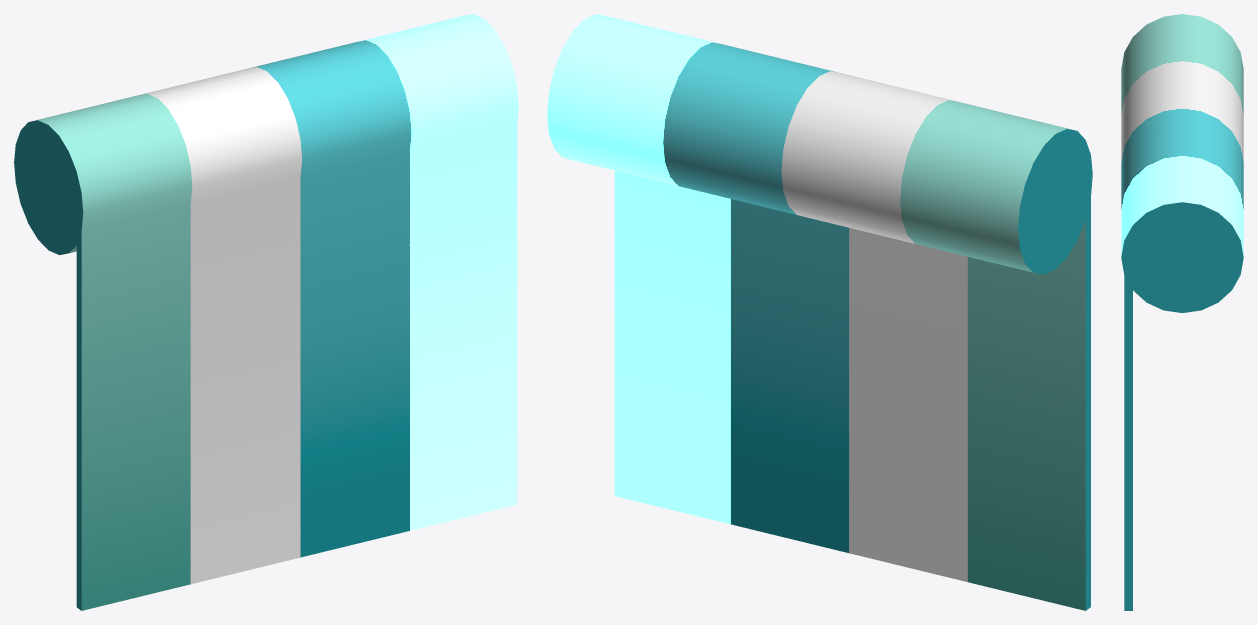
The model's file is ColorSet_04.fbx.
3 renders of one model, left to right at view 1: azimuth 30°, elevation 25°; view 2: azimuth 150°, elevation 25°; view 3: azimuth 270°, elevation 25°, orthographic. The views are drawn at different scales.
Parts seen in each view (by area): view 1: ColorSet_04; view 2: ColorSet_04; view 3: ColorSet_04.
Part boxes in pixels (x1,y1,x2,y2): ColorSet_04: (14,14,518,610); ColorSet_04: (547,14,1092,610); ColorSet_04: (1121,14,1243,610).
Bounding box in the file's own units: 66.97 × 18.42 × 67.84.
